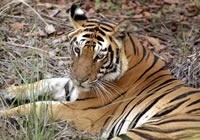tigre: (2, 3, 200, 139)
